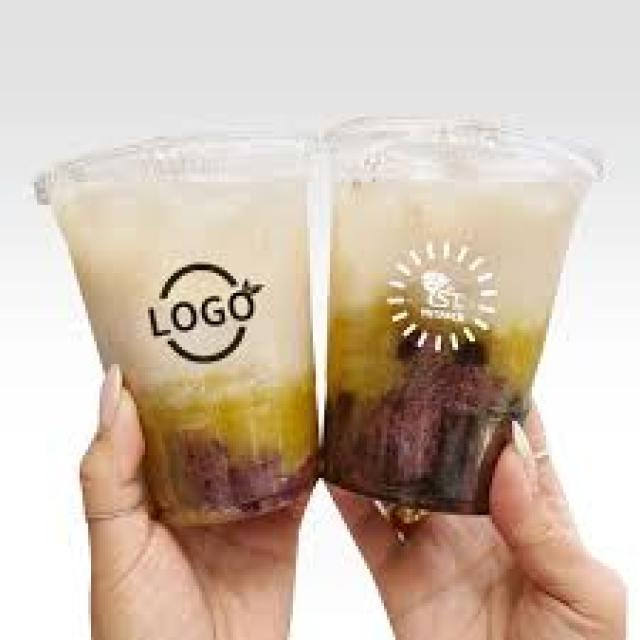cup: (325, 118, 599, 512), (46, 140, 316, 524)
